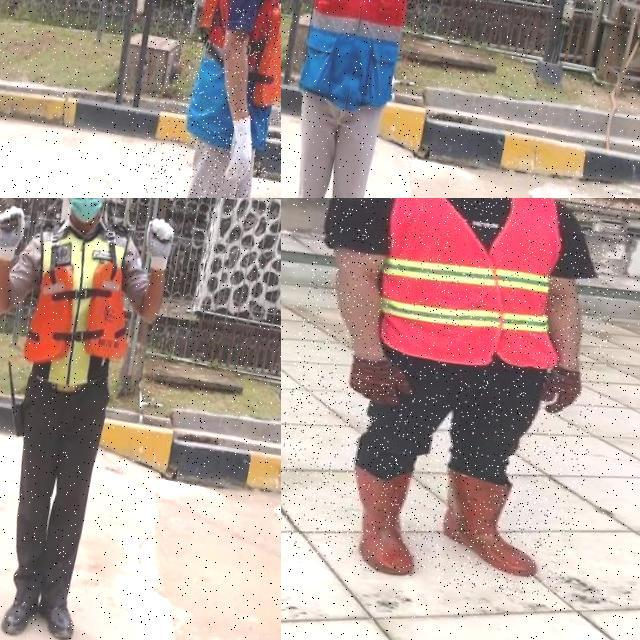boots: (430, 466, 556, 582), (334, 466, 434, 581), (34, 591, 84, 640), (0, 585, 44, 640)
vest: (363, 198, 585, 382), (8, 214, 152, 402), (288, 0, 428, 114), (180, 0, 281, 158)
